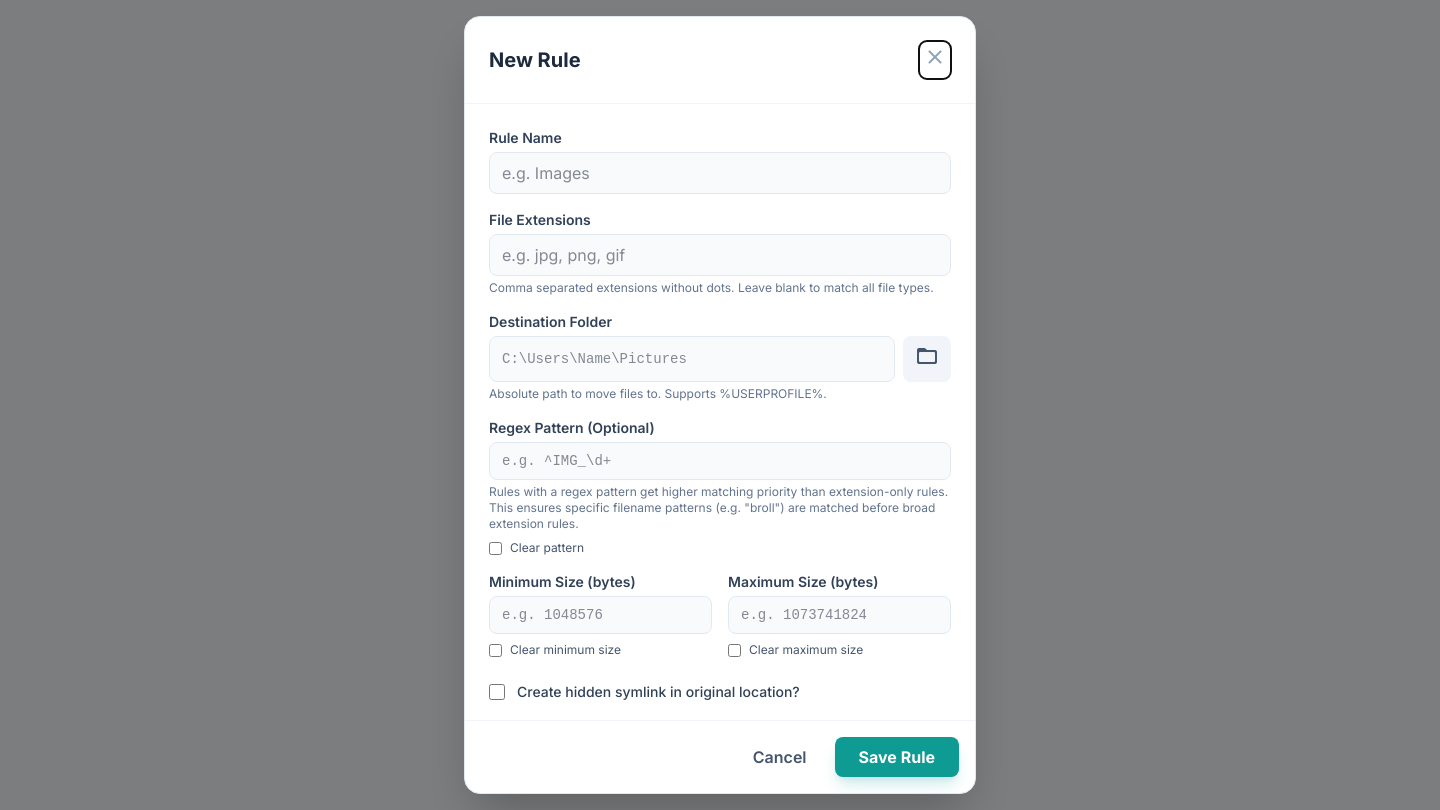
Scenario: RuleModal › handles browse button (dialog returns a path)
The width and height of the screenshot is (1440, 810).
Click the button titled "Browse Folder". click: (927, 359)
box: [903,336,951,382]
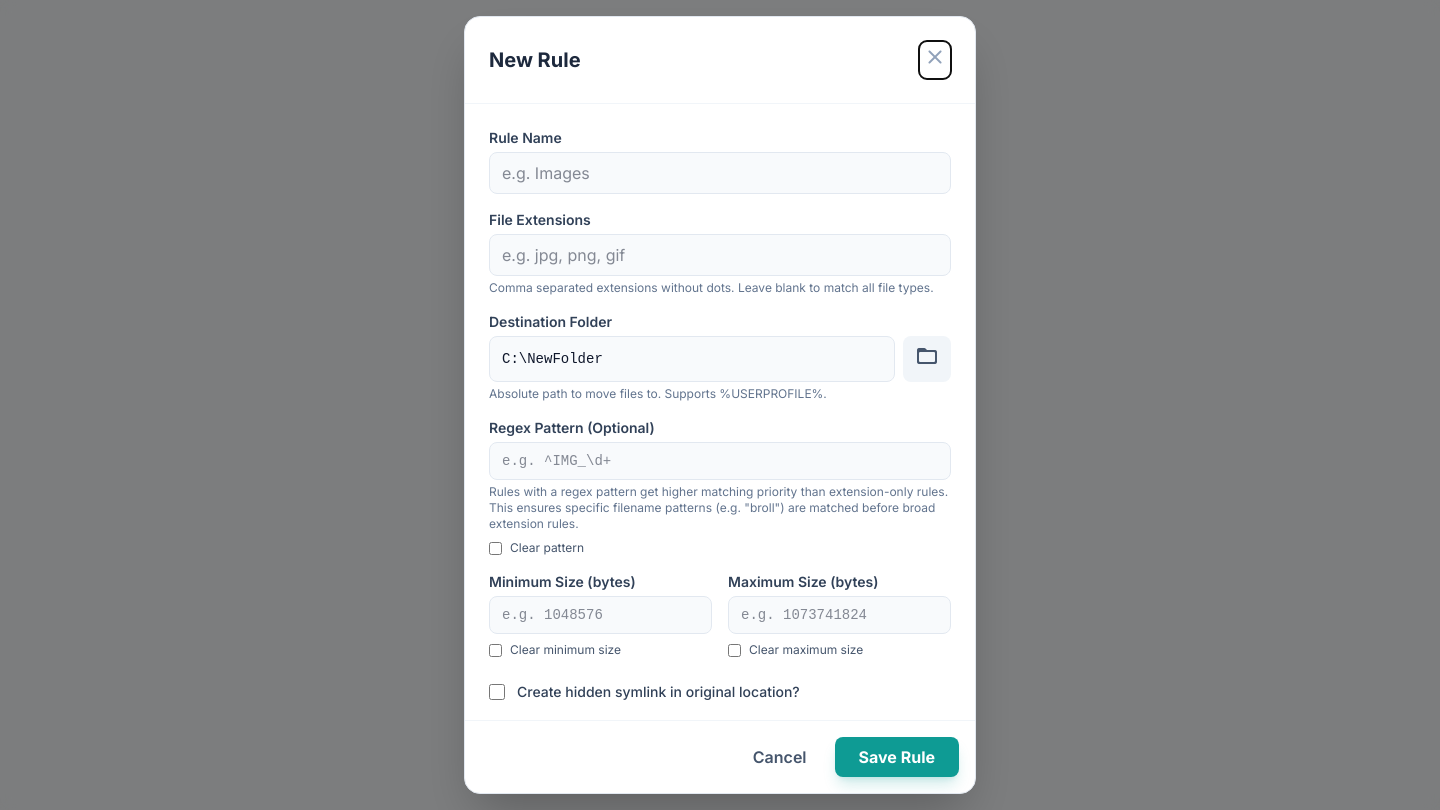
Check: the field showing "C:\\NewFolder" is shown, box [489,336,895,382]
